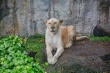lion: (40, 18, 82, 66)
